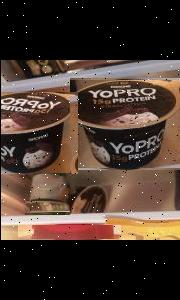Yogur: (69, 79, 180, 168), (0, 92, 77, 174), (24, 174, 69, 214), (17, 225, 120, 240)
